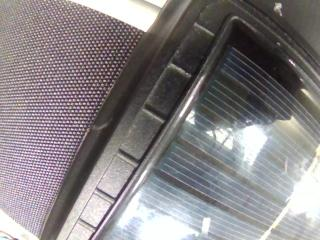crack: (284, 158, 286, 172)
solarboard: (110, 24, 320, 240)
